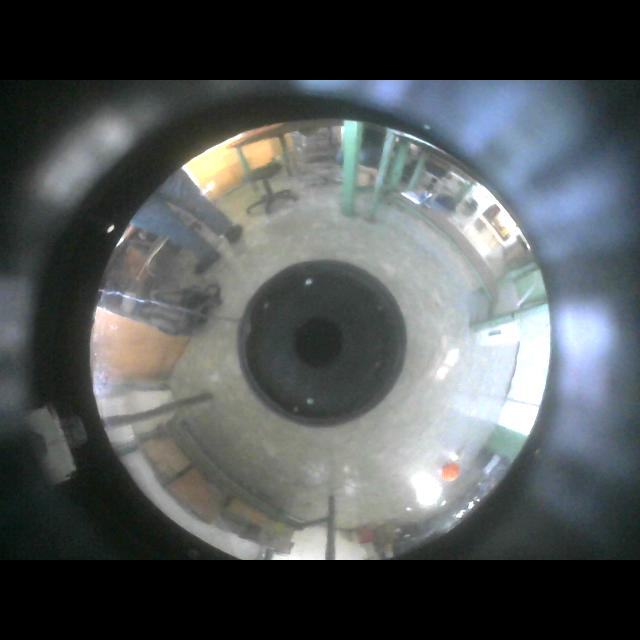bola: (442, 463, 461, 481)
